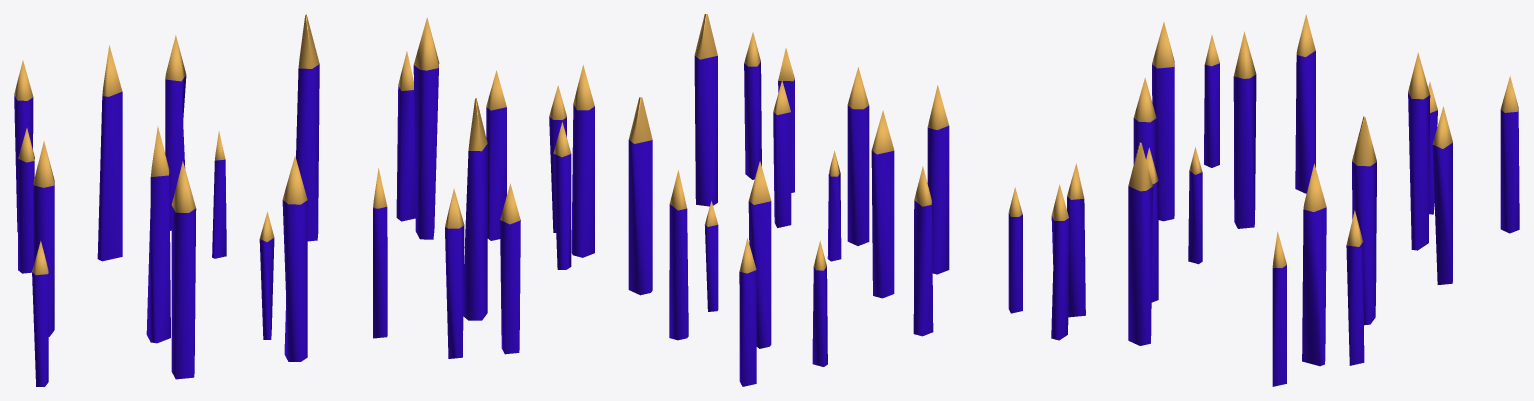
Rendered from matite_LOD2.fbx.
3 renders of one model, left to right at view 1: azimuth 30°, elevation 25°; view 2: azimuth 150°, elevation 25°; view 3: azimuth 270°, elevation 25°, orthographic. The views are drawn at different scales.
Visible parts, largest first — view 1: Cylinder_029; view 2: Cylinder_029; view 3: Cylinder_029.
Boxes of the visible parts, x1,y1,x2,y2 form: Cylinder_029: (14, 14, 520, 386); Cylinder_029: (549, 14, 1022, 386); Cylinder_029: (1051, 14, 1519, 386).
Size of the model in its own units: 733 by 308 by 644.
